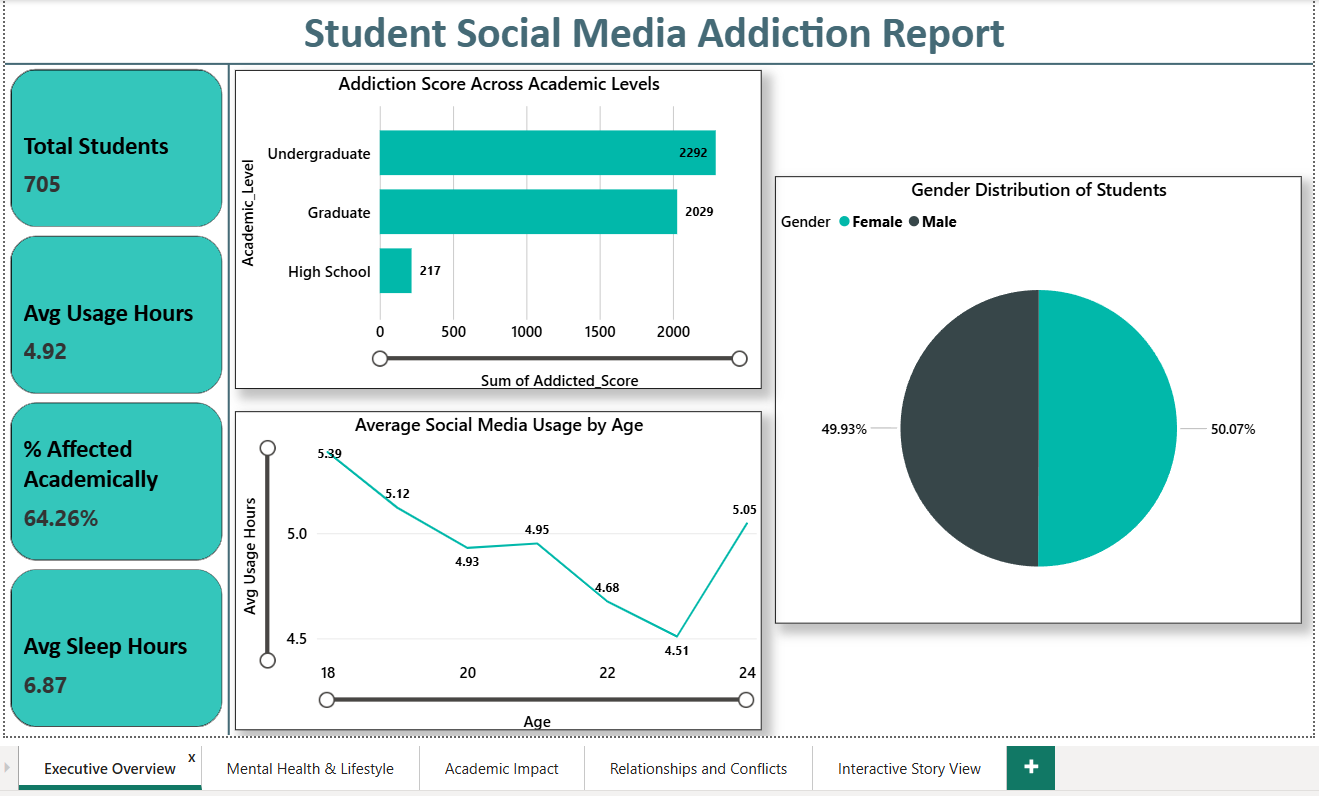

Layout of this report page (visuals, bound fields, positions):
{"tool":"powerbi","page":{"name":"Executive Overview","canvas":[1280,720],"ordinal":0},"visuals":[{"type":"textbox","box":[0,0,1280.3,63.6],"z":0},{"type":"shape","box":[0,56.2,1280,12.5],"z":1000},{"type":"shape","box":[212.8,62.4,12.2,656.7],"z":2000},{"type":"cardVisual","fields":{"Data":["CountNonNull(Student_details.Student_ID)","Platform_Details.Avg Usage Hours","Platform_Details.% Affected Academically","Student_details.Avg Sleep Hours"]},"box":[0,62.4,218.9,656.7],"z":3000},{"type":"clusteredBarChart","title":"Addiction Score Across Academic Levels","fields":{"Category":["Student_details.Academic_Level"],"Y":["Sum(Student_details.Addicted_Score)"]},"box":[225,68.5,514.8,311.8],"z":4000},{"type":"lineChart","title":"Average Social Media Usage by Age","fields":{"Y":["Platform_Details.Avg Usage Hours"],"Category":["Student_details.Age"]},"box":[225,402.3,514.8,311.8],"z":5000},{"type":"pieChart","title":"Gender Distribution of Students","fields":{"Category":["Student_details.Gender"],"Y":["CountNonNull(Platform_Details.Student_ID)"]},"box":[753.3,172.4,514.8,437.8],"z":6000}]}

Visuals, with their boxes on the page's 1280x720 design canvas (x1, y1, x2, y2). These are canvas units, not pixel positions in the 1319x796 screenshot, which may show the page scaled, cropped or inside an application window:
textbox: detection(0, 0, 1280, 64)
shape: detection(0, 56, 1280, 69)
shape: detection(213, 62, 225, 719)
cardVisual - CountNonNull(Student_details.Student_ID) x Platform_Details.Avg Usage Hours: detection(0, 62, 219, 719)
"Addiction Score Across Academic Levels" clusteredBarChart: detection(225, 68, 740, 380)
"Average Social Media Usage by Age" lineChart: detection(225, 402, 740, 714)
"Gender Distribution of Students" pieChart: detection(753, 172, 1268, 610)
